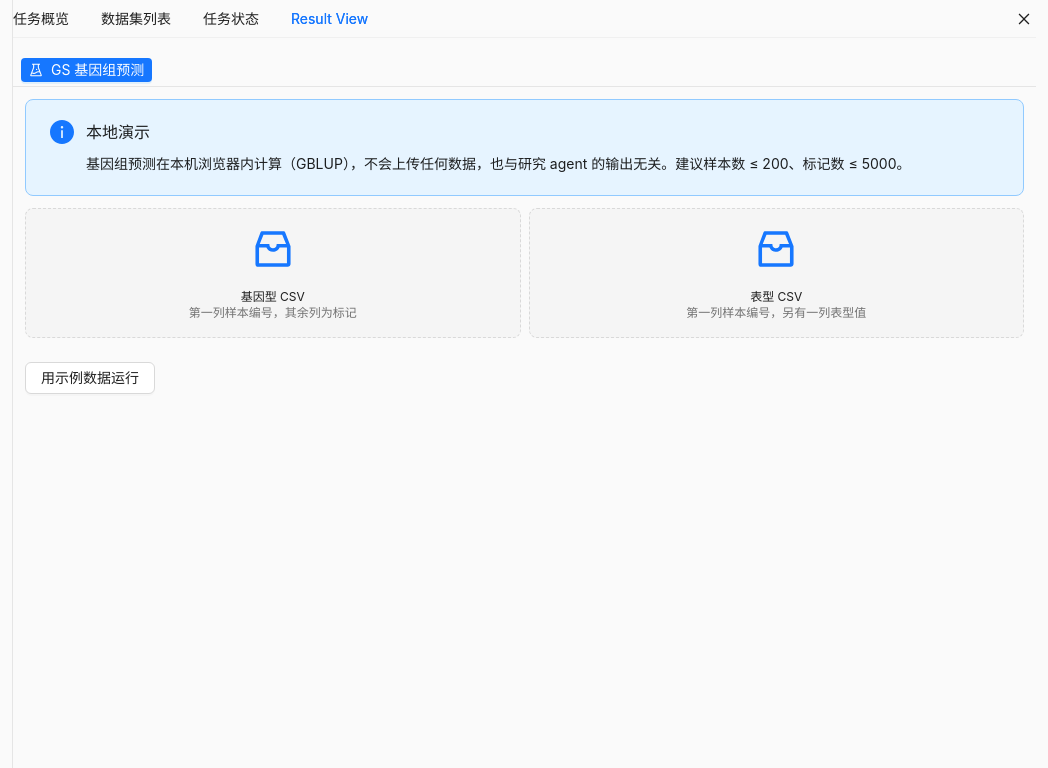
Test case: Result View is generic › carries the whole GS flow through the real registry, end to end
The width and height of the screenshot is (1048, 768).
Check: the text "PCC（测试集）" is not shown
Click the button "用示例数据运行" at (90,378), box [25,362,155,394]
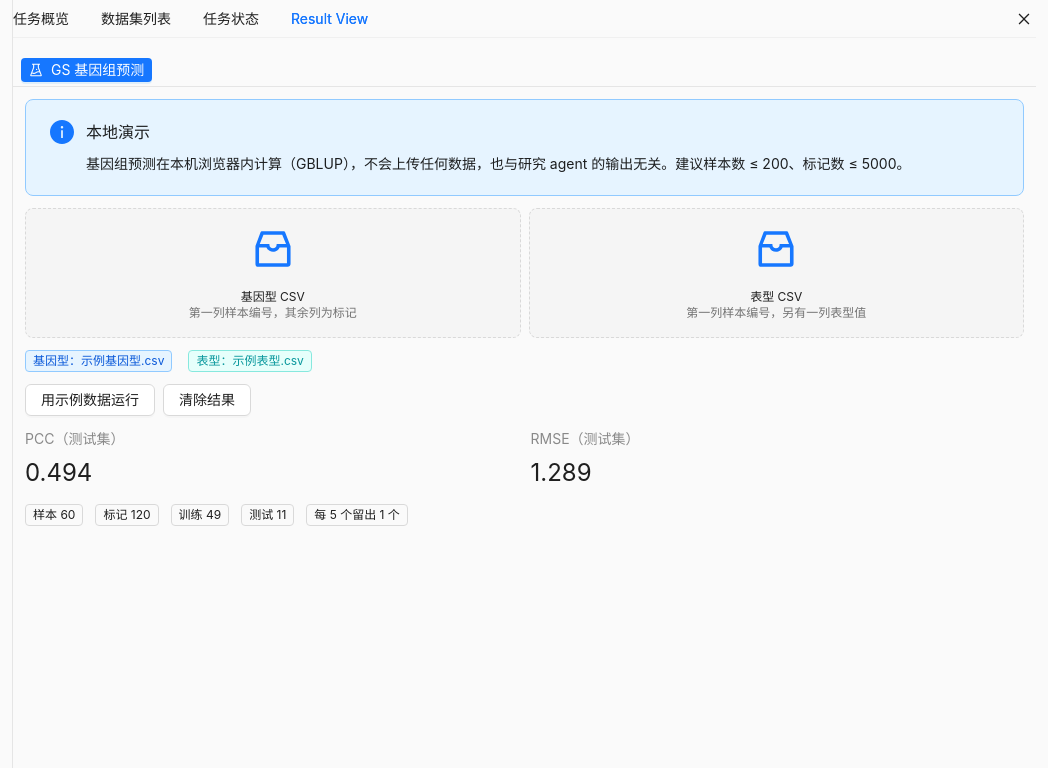
Check: the text "PCC（测试集）" is shown, box [25,430,124,447]
Check: the text "RMSE（测试集）" is shown, box [530,430,640,447]
Check: the text "样本 60" is shown, box [25,504,83,526]
Click the tab "任务状态" at (231,19), box [203,8,259,30]
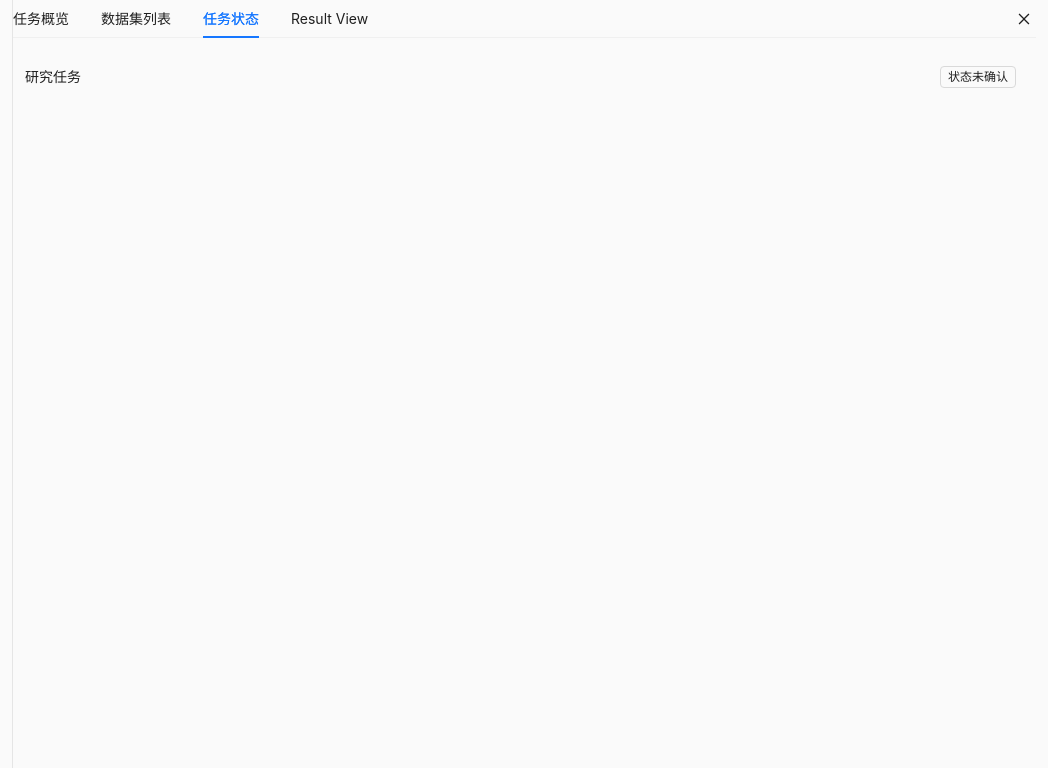
Check: the text "状态未确认" is shown, box [940,66,1016,88]
